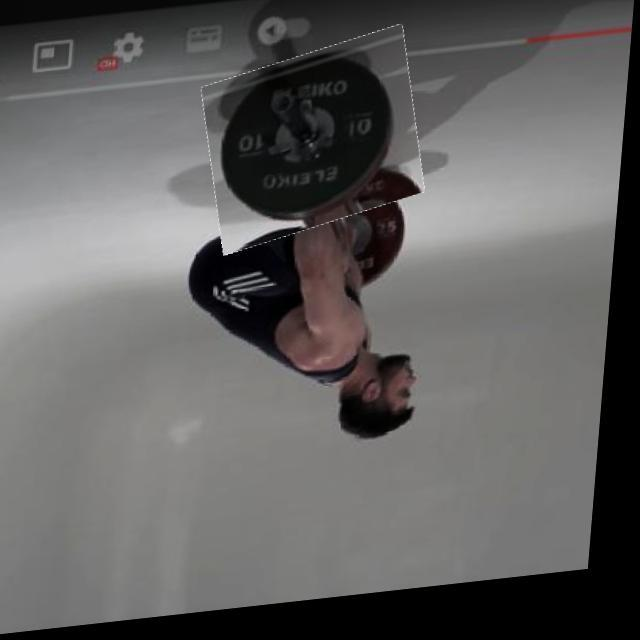barbell: (201, 41, 432, 256)
